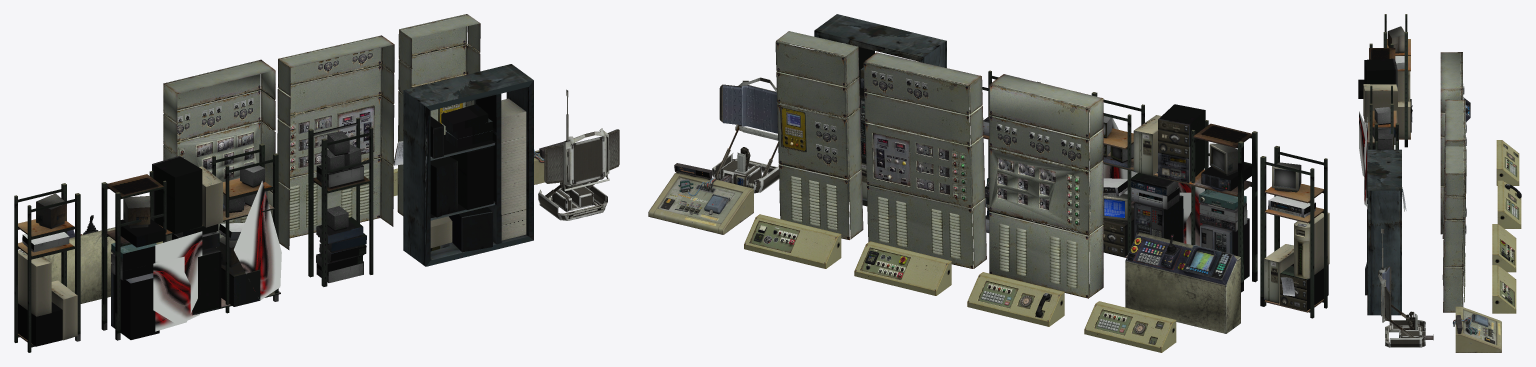
Rendered from Consoles HL2.obj.
The picture shows the model from 3 angles, left to right: view 1: azimuth 30°, elevation 25°; view 2: azimuth 150°, elevation 25°; view 3: azimuth 270°, elevation 25°; orthographic projection. The views are drawn at different scales.
Visible parts, largest first — view 1: Bodysiloserverdreferencesmdmesh1, Wallconsole1b1, Bodysiloservercreferencesmdmesh31, Mesh0wallconsole201, Bodysiloserverbreferencesmdmesh1, Bodysiloservercreferencesmdmesh21, Bodysiloserverareferencesmdmesh1, Bodysiloservercreferencesmdmesh1, Wallconsole1a1, Bodymobileprojectorreferencesmdmesh1, Wallconsole2a1, Wallconsole2b1 (+2 smaller); view 2: Wallconsole1b1, Mesh0wallconsole201, Wallconsole2a1, Bodysiloservercreferencesmdmesh21, Bodysiloservercreferencesmdmesh31, Bodyconsolepanelloadingbayrefsmdmesh1, Bodysiloserverbreferencesmdmesh1, Mesh1wallconsole101, Bodysiloserverdreferencesmdmesh1, Bodylaunchbuttonreferencesmdmesh1, Wallconsole1a1, Wallconsole2b1 (+13 smaller); view 3: Bodysiloserverdreferencesmdmesh1, Wallconsole2b1, Bodysiloservercreferencesmdmesh31, Bodysiloserverbreferencesmdmesh1, Bodymobileprojectorreferencesmdmesh1, Bodylaunchbuttonreferencesmdmesh1, Mesh0wallconsole201, Bodysiloservercreferencesmdmesh21, Wallconsole1a1, Bodydeskconsole1smdmesh21, Bodydeskconsole3smdmesh1, Bodydeskconsole2smdmesh1 (+9 smaller).
Boxes of the visible parts, bbox=[...] form: Bodysiloserverdreferencesmdmesh1: bbox=[393, 64, 533, 266]; Wallconsole1b1: bbox=[279, 47, 393, 238]; Bodysiloservercreferencesmdmesh31: bbox=[111, 156, 274, 339]; Mesh0wallconsole201: bbox=[163, 59, 275, 241]; Bodysiloserverbreferencesmdmesh1: bbox=[14, 183, 80, 352]; Bodysiloservercreferencesmdmesh21: bbox=[101, 143, 280, 340]; Bodysiloserverareferencesmdmesh1: bbox=[308, 117, 373, 286]; Bodysiloservercreferencesmdmesh1: bbox=[153, 181, 281, 331]; Wallconsole1a1: bbox=[277, 35, 394, 249]; Bodymobileprojectorreferencesmdmesh1: bbox=[538, 89, 619, 220]; Wallconsole2a1: bbox=[397, 14, 475, 211]; Wallconsole2b1: bbox=[398, 14, 480, 215]; Wallconsole1b1: bbox=[863, 62, 973, 268]; Mesh0wallconsole201: bbox=[989, 74, 1103, 297]; Wallconsole2a1: bbox=[775, 41, 857, 239]; Bodysiloservercreferencesmdmesh21: bbox=[1089, 92, 1257, 292]; Bodysiloservercreferencesmdmesh31: bbox=[1080, 104, 1251, 279]; Bodyconsolepanelloadingbayrefsmdmesh1: bbox=[1125, 232, 1240, 333]; Bodysiloserverbreferencesmdmesh1: bbox=[1260, 146, 1329, 318]; Mesh1wallconsole101: bbox=[989, 84, 1088, 298]; Bodysiloserverdreferencesmdmesh1: bbox=[814, 14, 946, 206]; Bodylaunchbuttonreferencesmdmesh1: bbox=[648, 172, 753, 234]; Wallconsole1a1: bbox=[864, 52, 986, 268]; Wallconsole2b1: bbox=[776, 31, 863, 239]; Bodysiloserverdreferencesmdmesh1: bbox=[1365, 149, 1406, 315]; Wallconsole2b1: bbox=[1443, 146, 1465, 312]; Bodysiloservercreferencesmdmesh31: bbox=[1358, 58, 1397, 203]; Bodysiloserverbreferencesmdmesh1: bbox=[1383, 14, 1412, 147]; Bodymobileprojectorreferencesmdmesh1: bbox=[1378, 228, 1433, 347]; Bodylaunchbuttonreferencesmdmesh1: bbox=[1453, 306, 1501, 352]; Mesh0wallconsole201: bbox=[1440, 52, 1462, 234]; Bodysiloservercreferencesmdmesh21: bbox=[1367, 43, 1396, 149]; Wallconsole1a1: bbox=[1442, 99, 1465, 279]; Bodydeskconsole1smdmesh21: bbox=[1497, 180, 1521, 228]; Bodydeskconsole3smdmesh1: bbox=[1498, 224, 1516, 267]; Bodydeskconsole2smdmesh1: bbox=[1498, 265, 1516, 309].
Size of the model in its own units: 24.8 by 7.48 by 7.6.
Materials: 17 (16 with a texture image).
